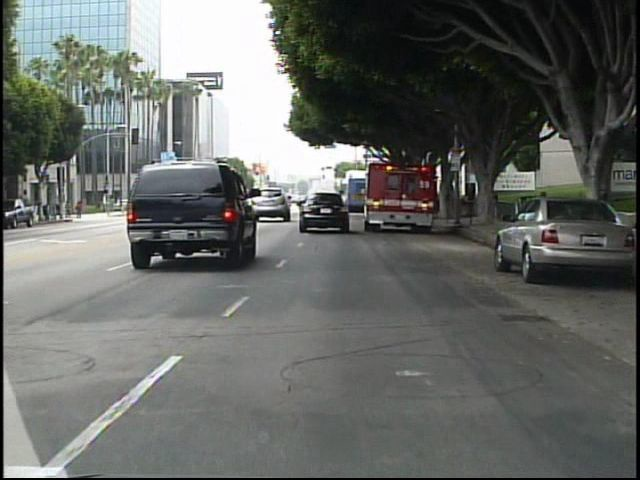person: (465, 186, 478, 218), (74, 197, 87, 222), (64, 198, 75, 222)
